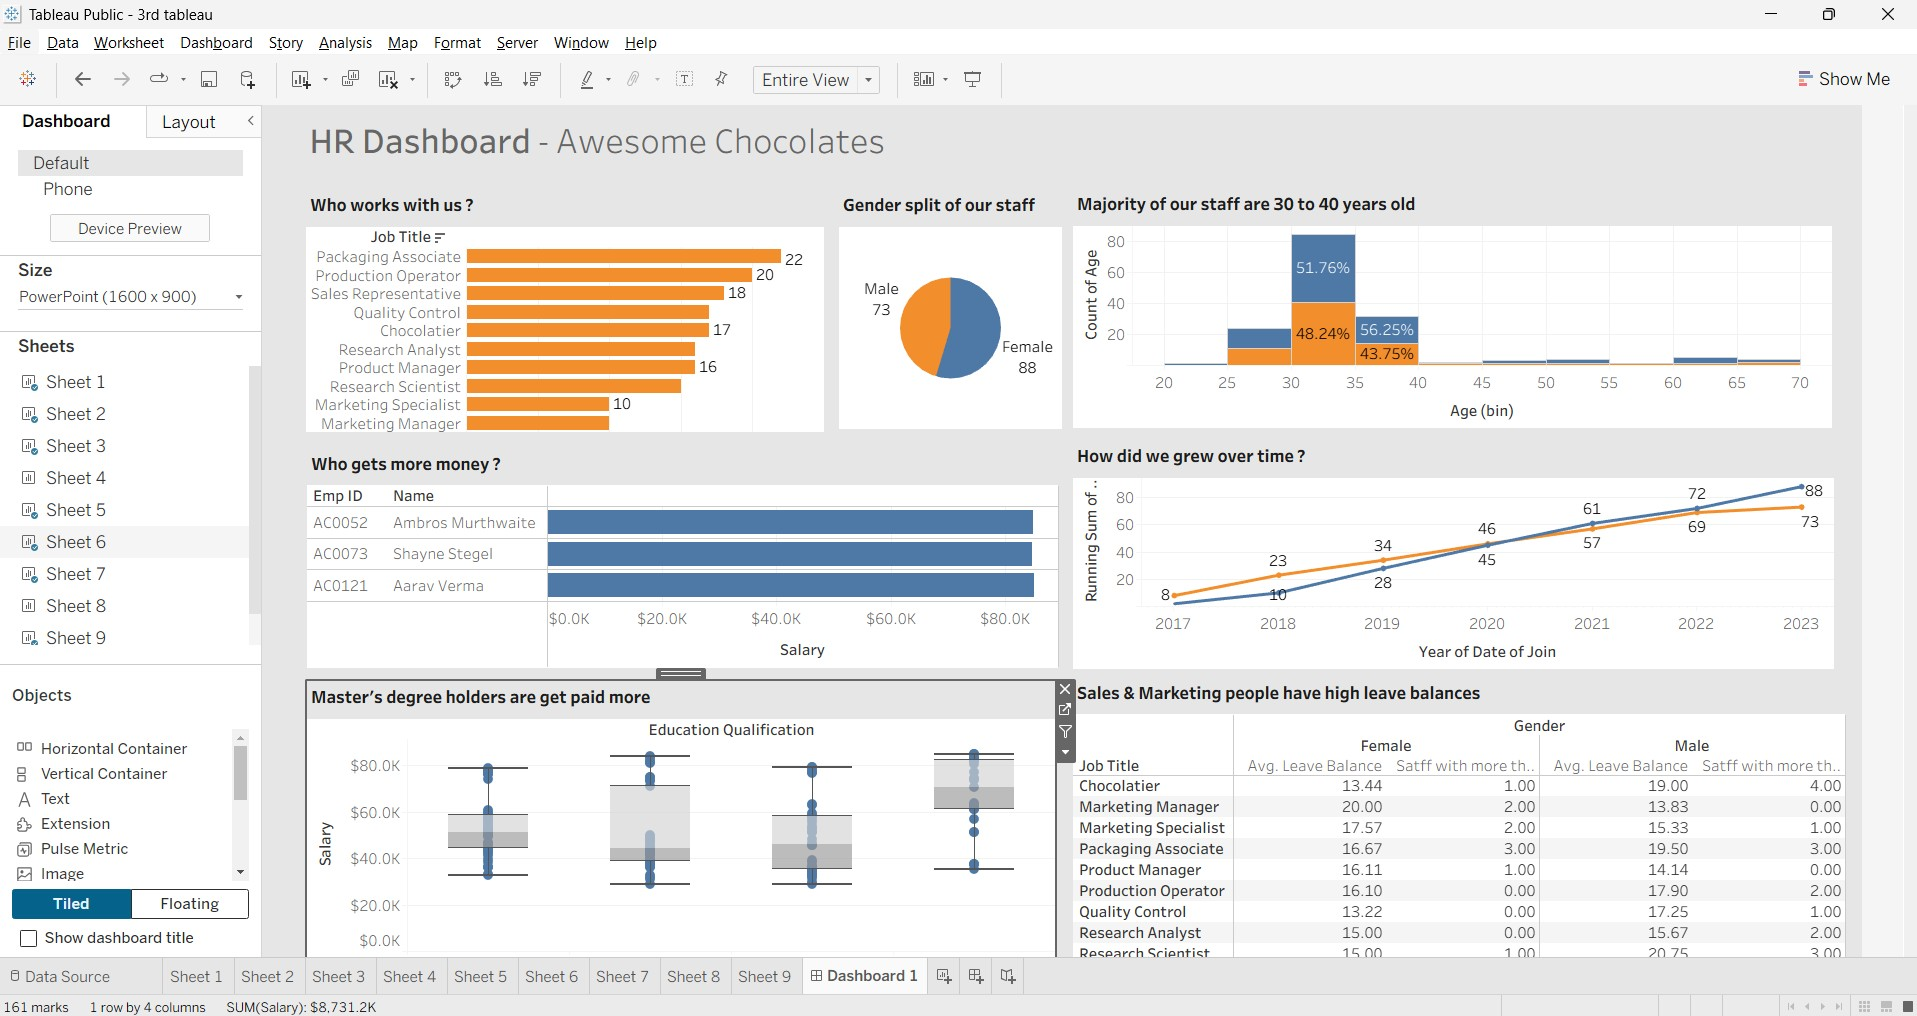

What the dashboard file says about the page in this screenshot:
{"tool":"tableau","page":{"name":"Dashboard 1","canvas":[1600,900],"ordinal":0},"visuals":[{"type":"text","box":[40,8,1552,54]},{"type":"worksheet","title":"Sheet 3","mark":"Automatic","rows":["Age"],"cols":["Age (bin)"],"box":[811,83,759,240]},{"type":"worksheet","title":"Sheet 1","mark":"Automatic","rows":["Job Title"],"cols":["data_FBE56D7B82E54D3D842CBF97DDE6A62B"],"box":[44,84,518,243]},{"type":"worksheet","title":"Sheet 2","mark":"Pie","box":[577,84,223,240]},{"type":"worksheet","title":"Sheet 7","mark":"Automatic","rows":["data_FBE56D7B82E54D3D842CBF97DDE6A62B"],"cols":["Date of Join"],"box":[811,335,761,229]},{"type":"worksheet","title":"Sheet 5","mark":"Automatic","rows":["Emp ID","Name"],"cols":["Salary"],"box":[45,343,752,220]},{"type":"worksheet","title":"Sheet 9","mark":"Automatic","rows":["Job Title"],"cols":["Gender"],"box":[811,572,778,313]},{"type":"worksheet","title":"Sheet 6","mark":"Circle","rows":["Salary"],"cols":["Education Qualification"],"box":[45,576,748,310]}]}

Visuals, with their boxes on the page's 1600x900 design canvas (x1, y1, x2, y2). These are canvas units, not pixel positions in the 1917x1016 screenshot, which may show the page scaled, cropped or inside an application window:
text: (x1=40, y1=8, x2=1592, y2=62)
"Sheet 3" worksheet: (x1=811, y1=83, x2=1570, y2=323)
"Sheet 1" worksheet: (x1=44, y1=84, x2=562, y2=327)
"Sheet 2" worksheet (Pie marks): (x1=577, y1=84, x2=800, y2=324)
"Sheet 7" worksheet: (x1=811, y1=335, x2=1572, y2=564)
"Sheet 5" worksheet: (x1=45, y1=343, x2=797, y2=563)
"Sheet 9" worksheet: (x1=811, y1=572, x2=1589, y2=885)
"Sheet 6" worksheet (Circle marks): (x1=45, y1=576, x2=793, y2=886)
